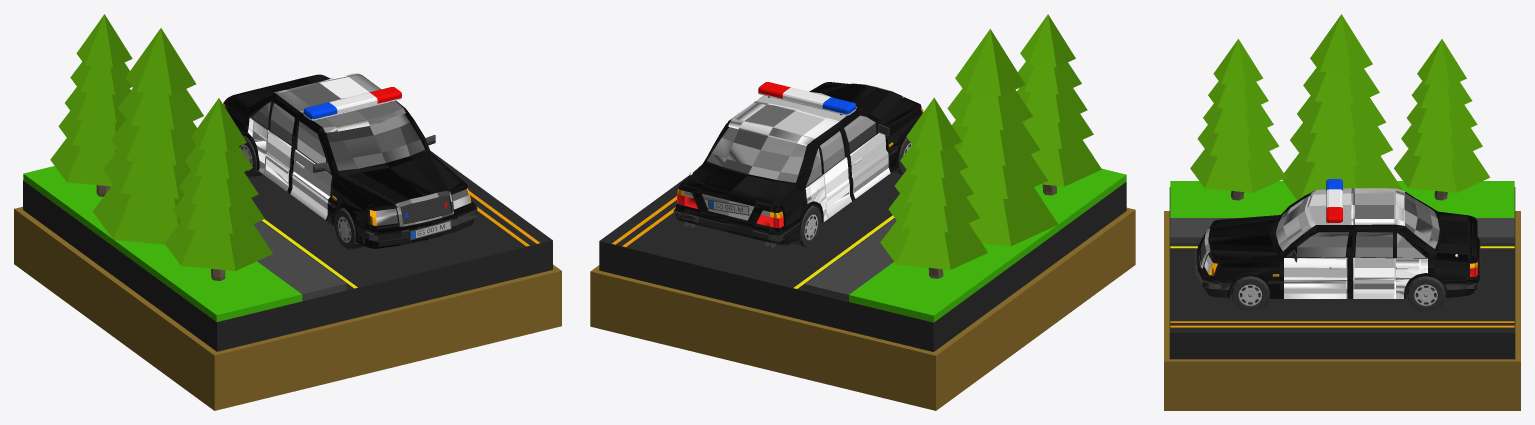
File: Готовая сцена 1.fbx
3 renders of one model, left to right at view 1: azimuth 30°, elevation 25°; view 2: azimuth 150°, elevation 25°; view 3: azimuth 270°, elevation 25°, orthographic. The views are drawn at different scales.
Visible parts, largest first — view 1: Объект_Куб_1, Объект_Куб_7_2, Булев_1, Объект_Сфера_19_2, Объект_Сфера_19_3, Объект_Сфера_17_2, Объект_Сфера_15_2, Объект_Сфера_18_2, Объект_Сфера_16_2, Объект_Сфера_18_3, Объект_Сфера_19, Объект_Сфера_17_3 (+8 smaller); view 2: Объект_Куб_1, Объект_Куб_7_2, Булев_1, Объект_Сфера_19, Объект_Сфера_19_2, Объект_Сфера_17_2, Объект_Сфера_15_2, Объект_Сфера_18_2, Объект_Сфера_16_2, Объект_Сфера_18, Объект_Сфера_19_3, Объект_Сфера_17 (+8 smaller); view 3: Объект_Куб_1, Булев_1, Объект_Куб_7_2, Объект_Сфера_19_2, Объект_Сфера_19_3, Объект_Сфера_19, Объект_Сфера_18_2, Объект_Сфера_17_2, Объект_Сфера_15_2, Объект_Цилиндр_3_2, Объект_Сфера_16_2, Объект_Сфера_18_3 (+10 smaller).
Boxes of the visible parts, left/top/right/bottom form: Объект_Куб_1: left=14, top=166, right=561, bottom=410; Объект_Куб_7_2: left=23, top=151, right=552, bottom=351; Булев_1: left=223, top=73, right=477, bottom=248; Объект_Сфера_19_2: left=92, top=184, right=181, bottom=244; Объект_Сфера_19_3: left=165, top=222, right=272, bottom=270; Объект_Сфера_17_2: left=111, top=119, right=196, bottom=165; Объект_Сфера_15_2: left=125, top=28, right=196, bottom=95; Объект_Сфера_18_2: left=103, top=150, right=191, bottom=198; Объект_Сфера_16_2: left=118, top=88, right=203, bottom=129; Объект_Сфера_18_3: left=173, top=194, right=264, bottom=233; Объект_Сфера_19: left=50, top=138, right=117, bottom=186; Объект_Сфера_17_3: left=179, top=170, right=258, bottom=206; Объект_Куб_1: left=590, top=168, right=1135, bottom=410; Объект_Куб_7_2: left=599, top=172, right=1126, bottom=351; Булев_1: left=673, top=82, right=923, bottom=245; Объект_Сфера_19: left=880, top=221, right=987, bottom=269; Объект_Сфера_19_2: left=966, top=187, right=1058, bottom=246; Объект_Сфера_17_2: left=952, top=120, right=1040, bottom=165; Объект_Сфера_15_2: left=955, top=29, right=1025, bottom=95; Объект_Сфера_18_2: left=959, top=154, right=1047, bottom=198; Объект_Сфера_16_2: left=947, top=88, right=1032, bottom=130; Объект_Сфера_18: left=888, top=194, right=979, bottom=232; Объект_Сфера_19_3: left=1031, top=140, right=1101, bottom=186; Объект_Сфера_17: left=894, top=170, right=973, bottom=205; Объект_Куб_1: left=1164, top=181, right=1520, bottom=410; Булев_1: left=1196, top=188, right=1480, bottom=298; Объект_Куб_7_2: left=1169, top=187, right=1515, bottom=359; Объект_Сфера_19_2: left=1282, top=153, right=1402, bottom=200; Объект_Сфера_19_3: left=1190, top=149, right=1286, bottom=192; Объект_Сфера_19: left=1394, top=149, right=1489, bottom=192; Объект_Сфера_18_2: left=1290, top=123, right=1392, bottom=166; Объект_Сфера_17_2: left=1297, top=96, right=1386, bottom=136; Объект_Сфера_15_2: left=1310, top=14, right=1372, bottom=74; Объект_Цилиндр_3_2: left=1231, top=276, right=1445, bottom=310; Объект_Сфера_16_2: left=1303, top=67, right=1379, bottom=104; Объект_Сфера_18_3: left=1197, top=125, right=1279, bottom=159.
Bounding box in the file's own units: 39.74 × 31.62 × 38.43.
